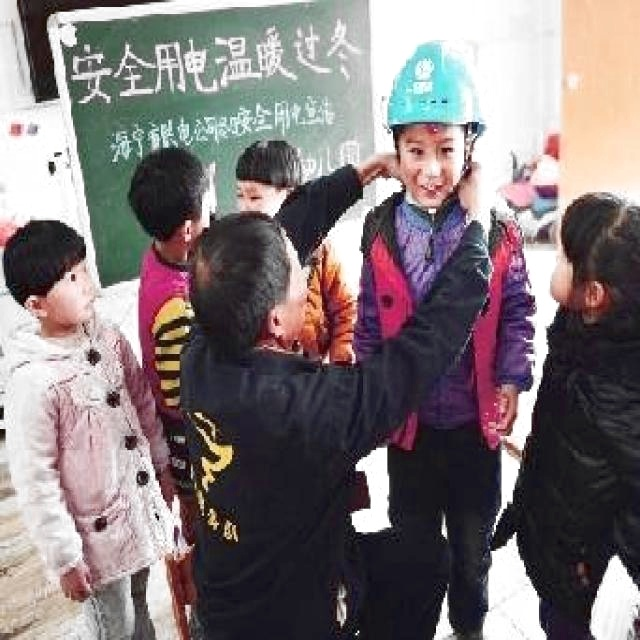Con_Casco: (384, 41, 487, 196)
Sin_Casco_Mascarrilla: (2, 224, 106, 332)
